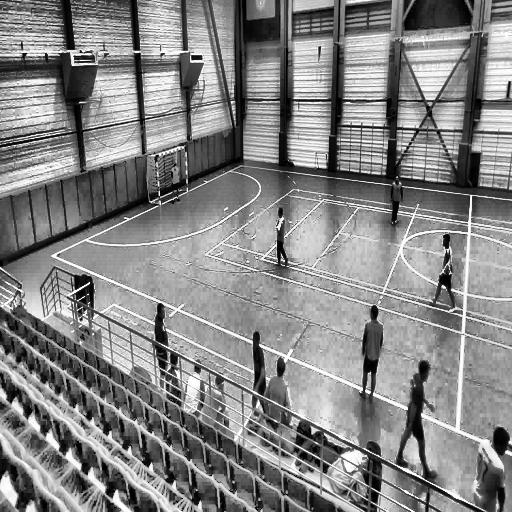player: (394, 360, 436, 480), (427, 234, 458, 314), (359, 303, 382, 405), (250, 330, 268, 411), (152, 301, 170, 382), (274, 206, 289, 269), (390, 174, 404, 227), (170, 162, 182, 207)
